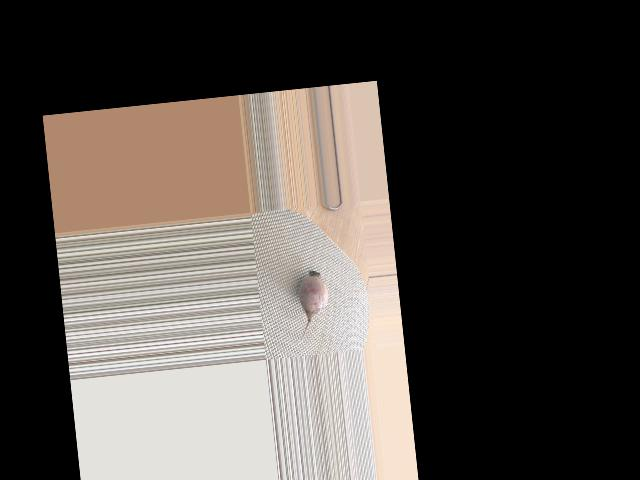beet: (289, 268, 332, 343)
